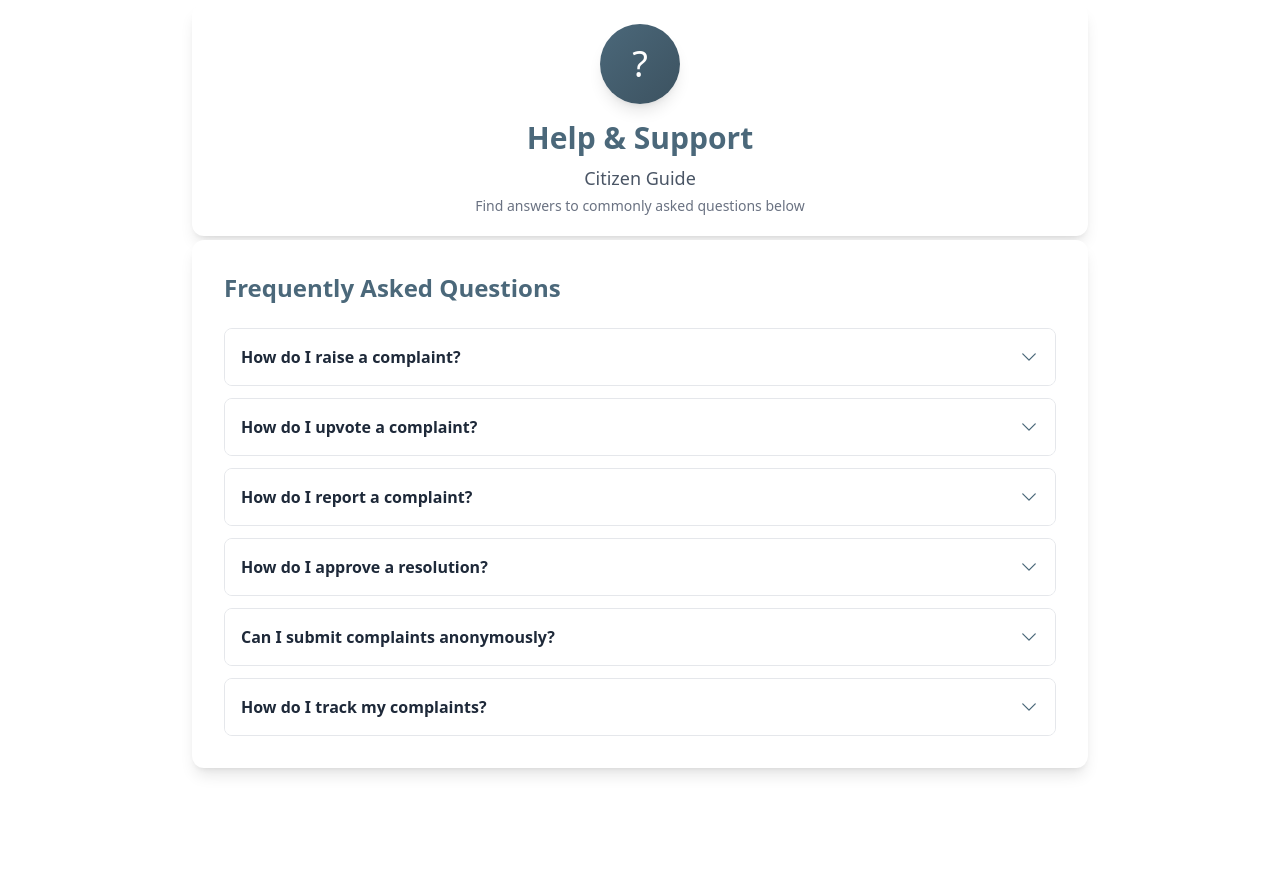
Help Component - Complete Coverage › FAQ Content Verification › should display complete answer for upvote complaint FAQ
Click the button "How do I upvote a complaint?" at {"x": 359, "y": 427}, box x1=225 y1=399 x2=1055 y2=455
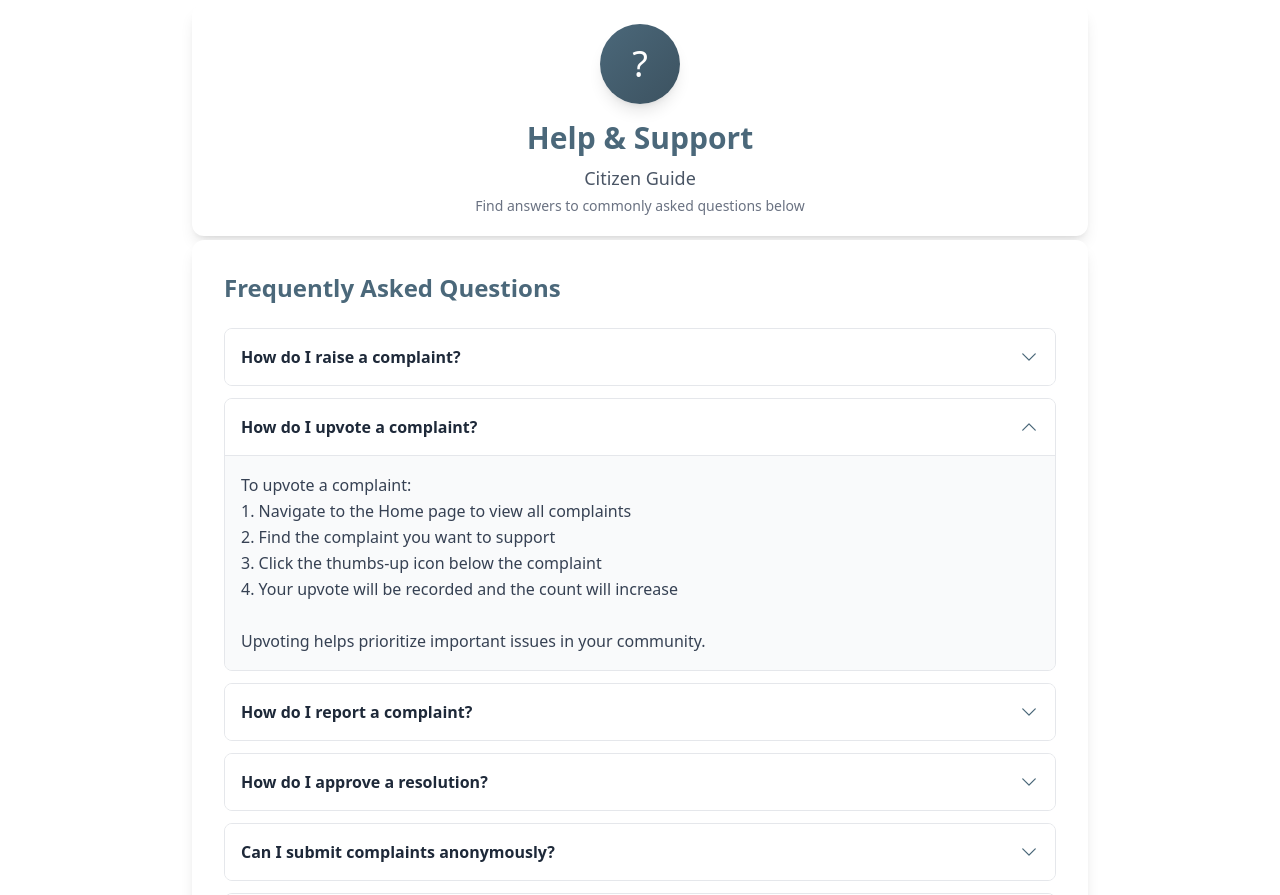
Expected: the text "Upvoting helps prioritize important issues" is shown, x1=241 y1=474 x2=706 y2=652
